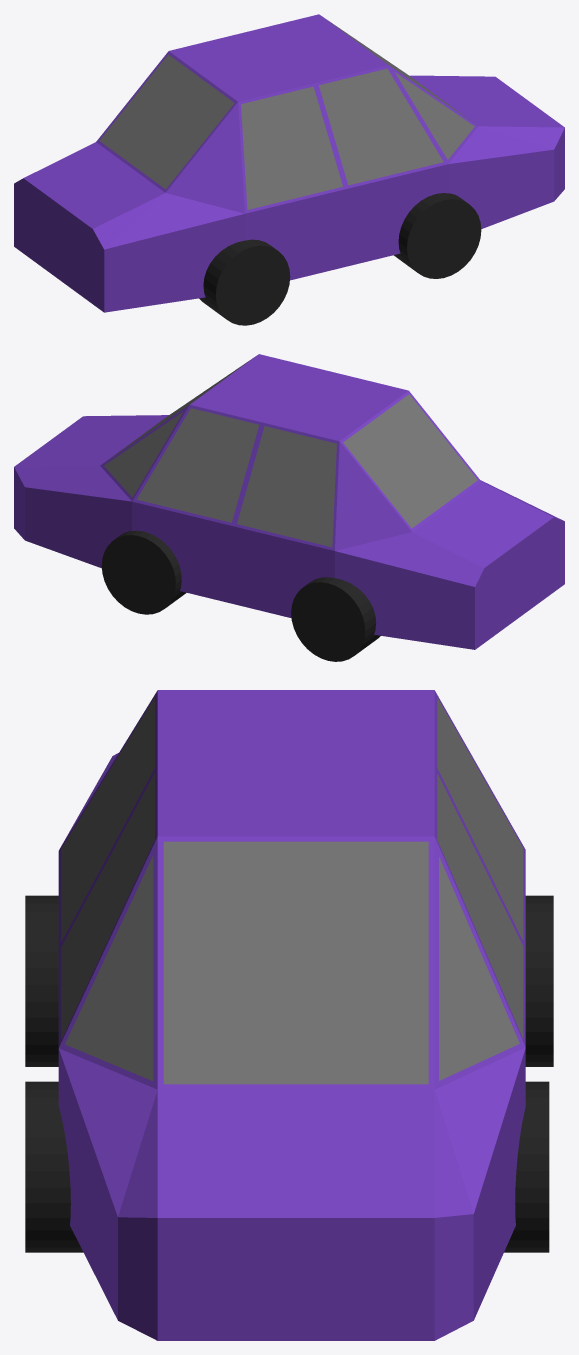
File: basic_car_model.fbx
3 views of the same model, one above another, from view 1: azimuth 30°, elevation 25°; view 2: azimuth 150°, elevation 25°; view 3: azimuth 270°, elevation 25° (orthographic). The views are drawn at different scales.
Parts seen in each view (by area): view 1: Cube; view 2: Cube; view 3: Cube.
Part boxes in pixels (x1,y1,x2,y2): Cube: (14, 14, 564, 325); Cube: (14, 354, 564, 661); Cube: (25, 690, 553, 1340).
Bounding box in the file's own units: 909 × 357 × 442.
